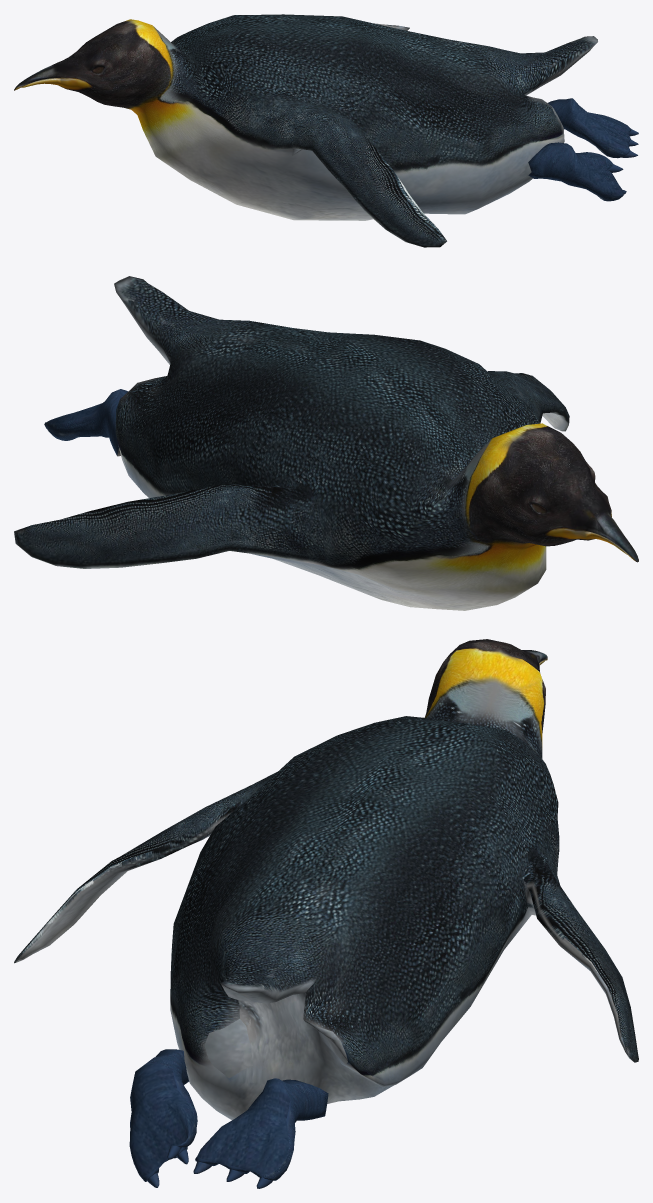
The picture shows the model from 3 angles, top to bottom: view 1: azimuth 30°, elevation 25°; view 2: azimuth 150°, elevation 25°; view 3: azimuth 270°, elevation 25°; orthographic projection. The views are drawn at different scales.
Parts seen in each view (by area): view 1: penguin.002_penguin.003; view 2: penguin.002_penguin.003; view 3: penguin.002_penguin.003.
Part boxes in pixels (x1,y1,x2,y2): penguin.002_penguin.003: (14, 14, 638, 247); penguin.002_penguin.003: (14, 276, 638, 610); penguin.002_penguin.003: (14, 639, 638, 1188).
Size of the model in its own units: 28.01 by 9.7 by 19.43.
